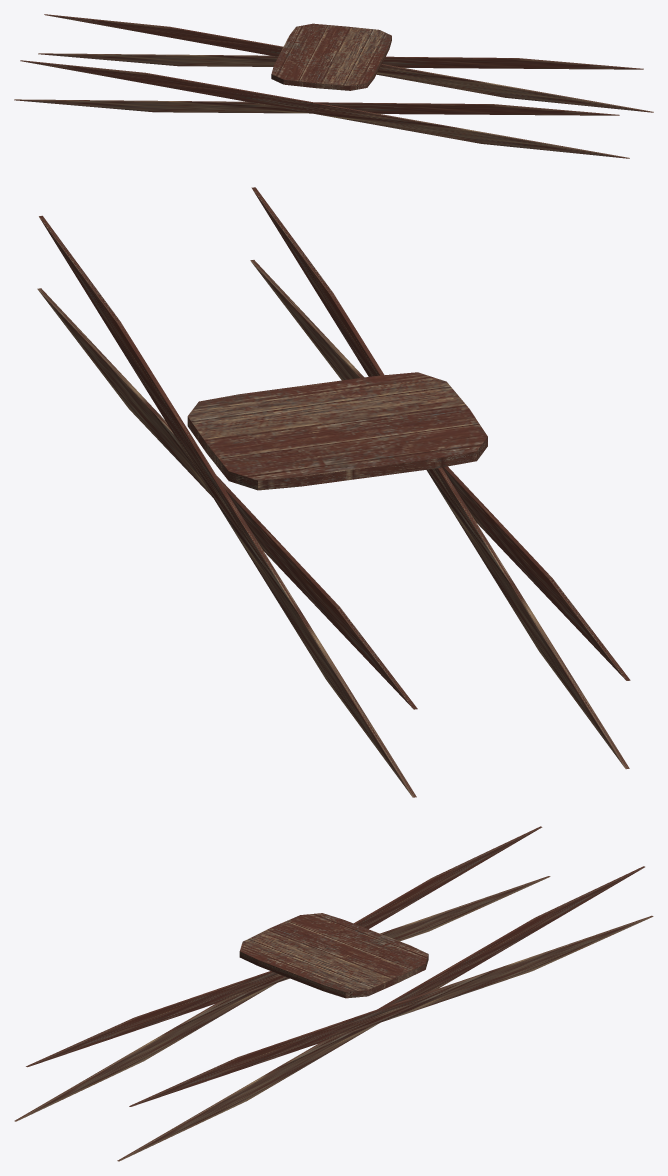
Rendered from cenario.fbx_MESA.fbx.
The picture shows the model from 3 angles, top to bottom: view 1: azimuth 30°, elevation 25°; view 2: azimuth 150°, elevation 25°; view 3: azimuth 270°, elevation 25°; orthographic projection. The views are drawn at different scales.
Visible parts, largest first — view 1: Cube.004, Cube.006, Cube.005, Cube.008, Cube.007; view 2: Cube.004, Cube.007, Cube.005, Cube.008, Cube.006; view 3: Cube.004, Cube.007, Cube.008, Cube.006, Cube.005.
Boxes of the visible parts, x1,y1,x2,y2 form: Cube.004: (271, 23, 391, 90); Cube.006: (20, 60, 629, 158); Cube.005: (14, 99, 619, 115); Cube.008: (44, 14, 653, 112); Cube.007: (38, 53, 643, 69); Cube.004: (187, 372, 487, 490); Cube.007: (39, 215, 416, 797); Cube.005: (251, 187, 629, 769); Cube.008: (37, 288, 417, 709); Cube.006: (250, 260, 630, 680); Cube.004: (239, 913, 428, 998); Cube.007: (129, 915, 653, 1106); Cube.008: (117, 866, 644, 1161); Cube.006: (14, 826, 542, 1121); Cube.005: (26, 876, 550, 1067).
Size of the model in its own units: 1736 by 183 by 1643.
